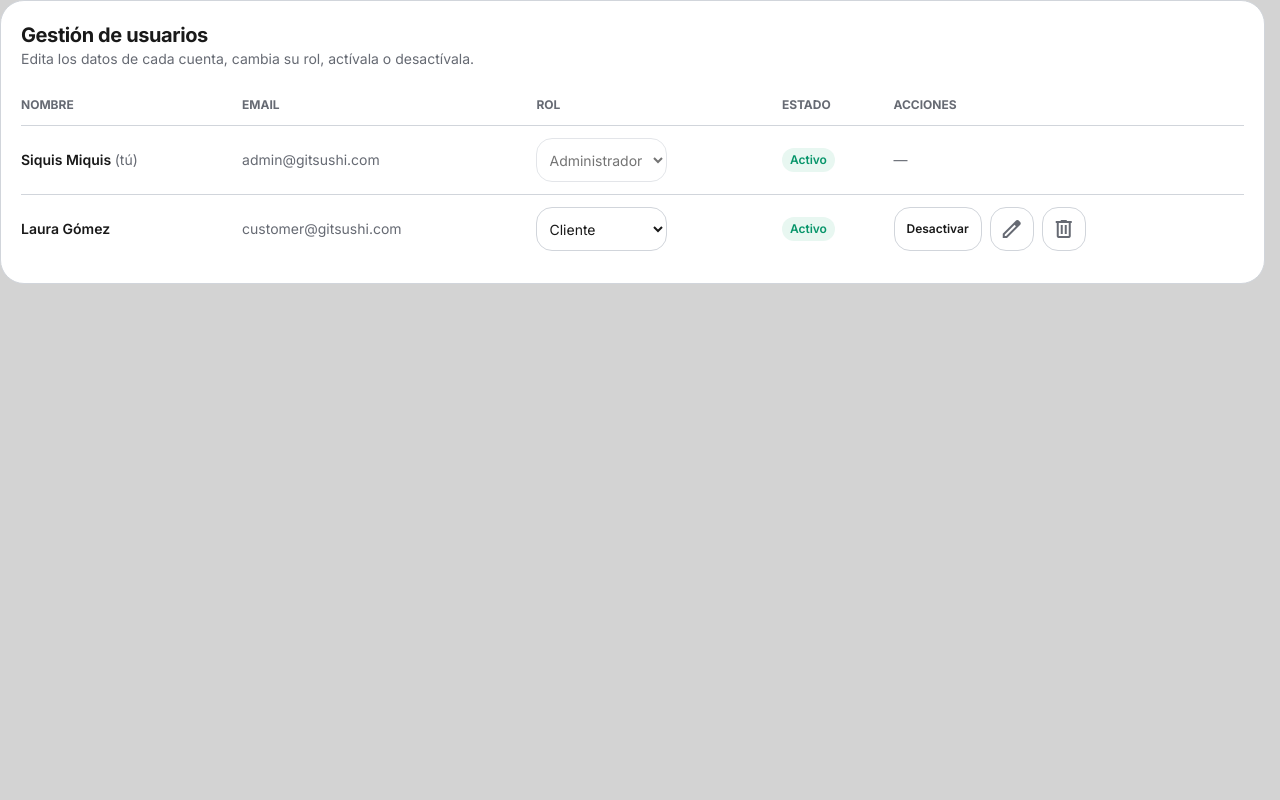
AdminUsersPanel › desactiva al confirmar y muestra el nuevo estado
What coordinates should you click on to do the following:
click the button "Desactivar"
I would click on:
 (938, 229)
Its box is x1=894 y1=207 x2=982 y2=251.
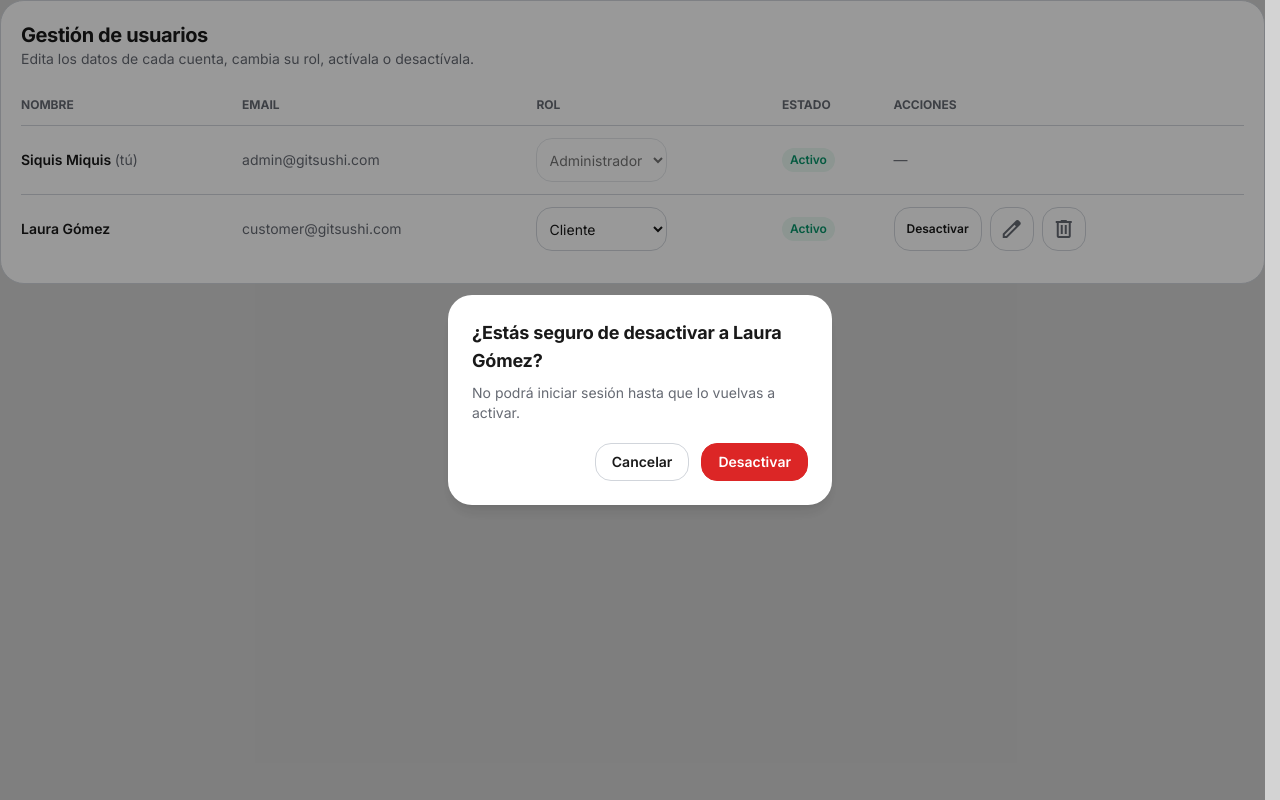
What coordinates should you click on to do the following:
click the button with class "confirm-dialog__button--danger"
I would click on:
 (755, 462)
Its box is x1=701 y1=443 x2=808 y2=481.
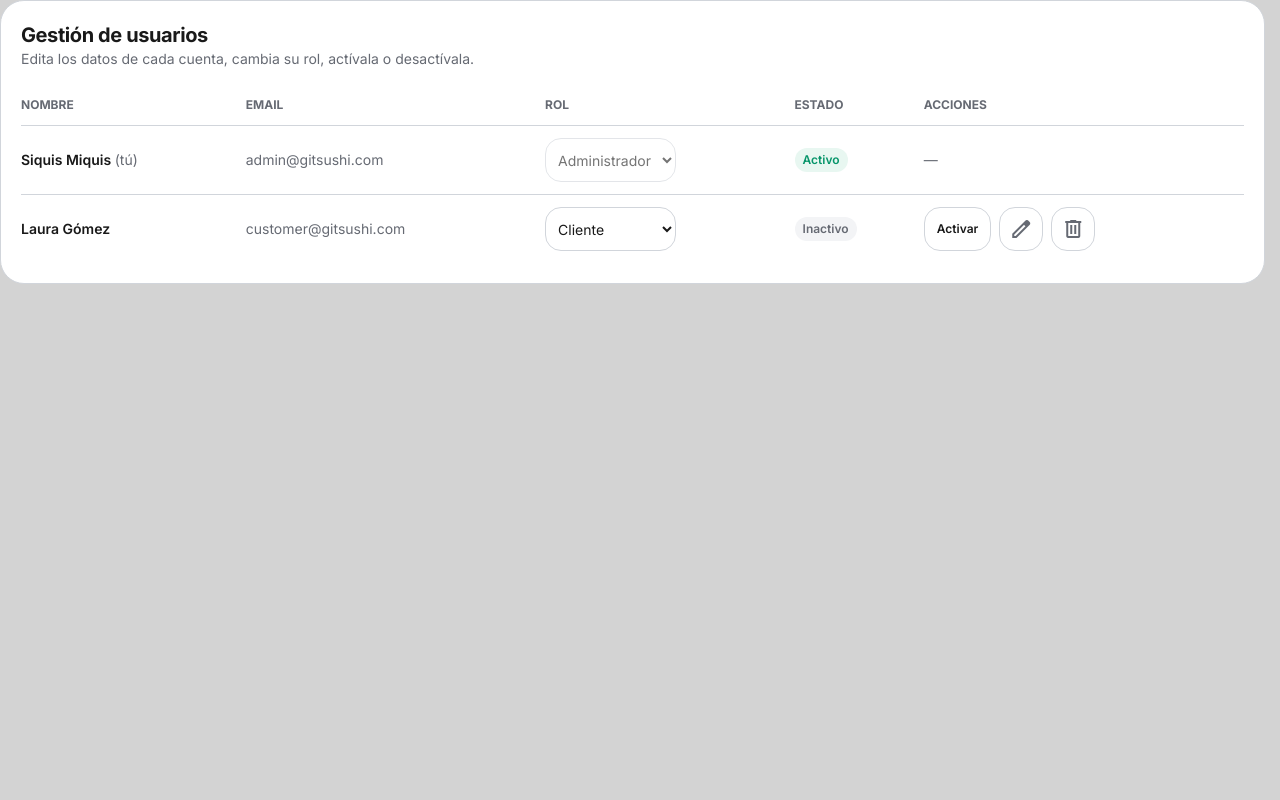
Expected: the text with class "users-table__badge" reads "Inactivo", x1=803 y1=221 x2=849 y2=236
